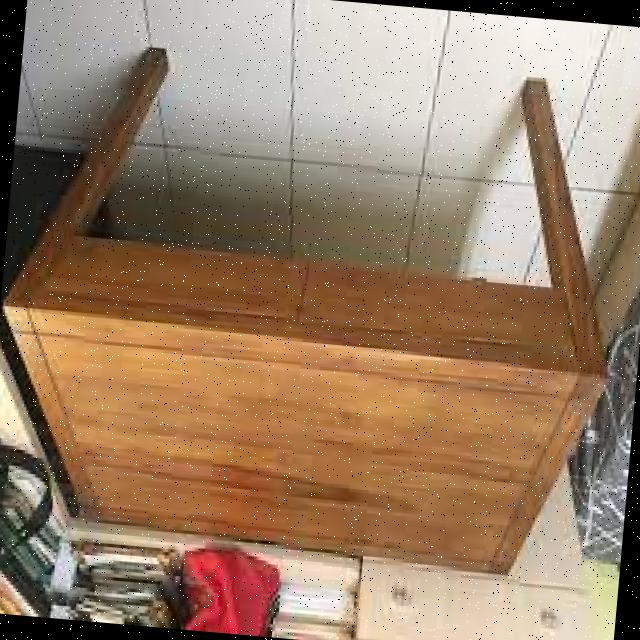Table: (0, 8, 639, 595)
